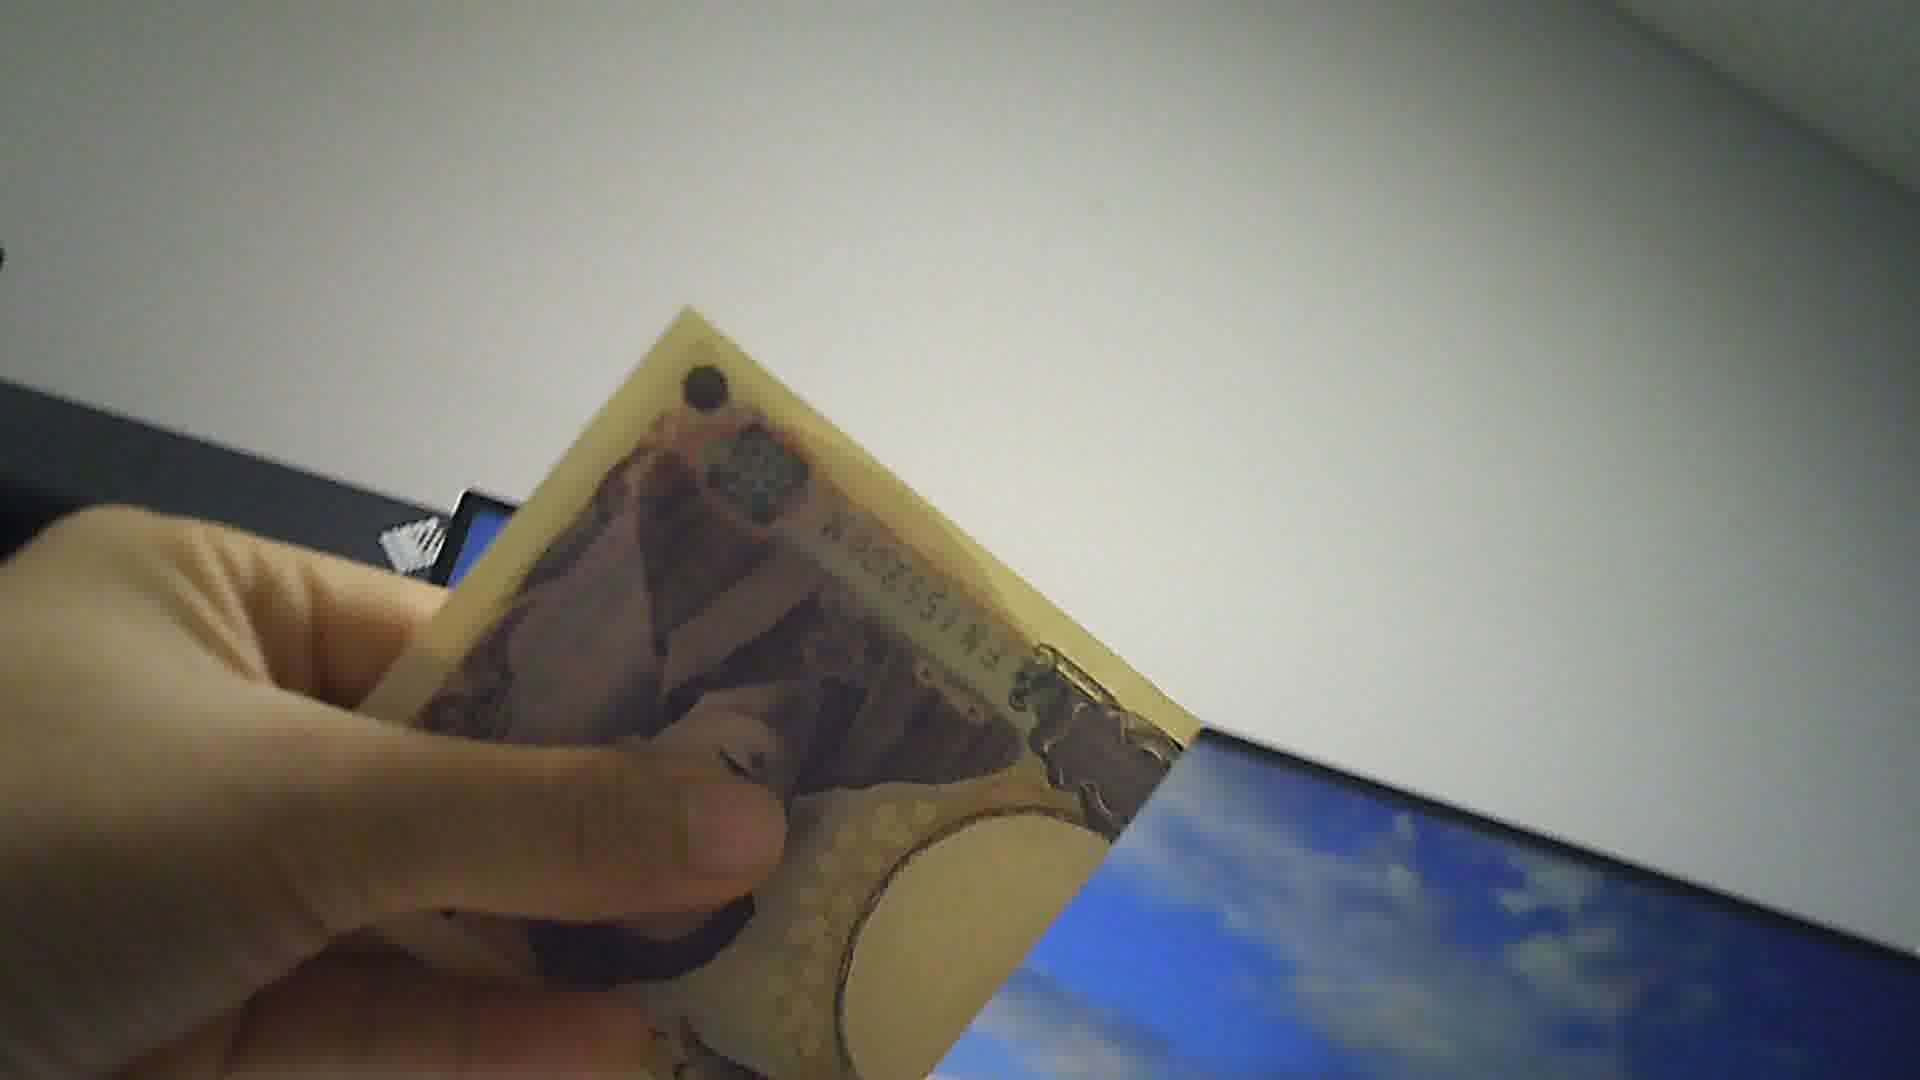5,000 Yen: (293, 306, 1209, 1079)
